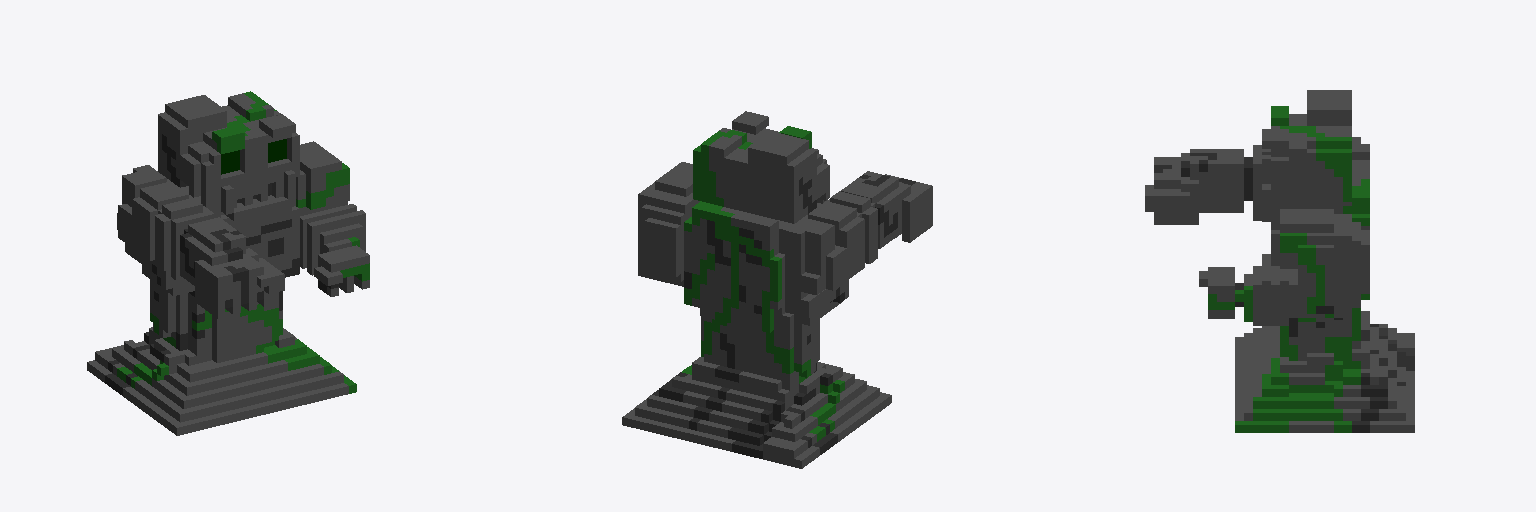
3 renders of one model, left to right at view 1: azimuth 30°, elevation 25°; view 2: azimuth 150°, elevation 25°; view 3: azimuth 270°, elevation 25°, orthographic.
Size of the model in its own units: 26 by 34 by 30.
Materials: 1 (1 with a texture image).